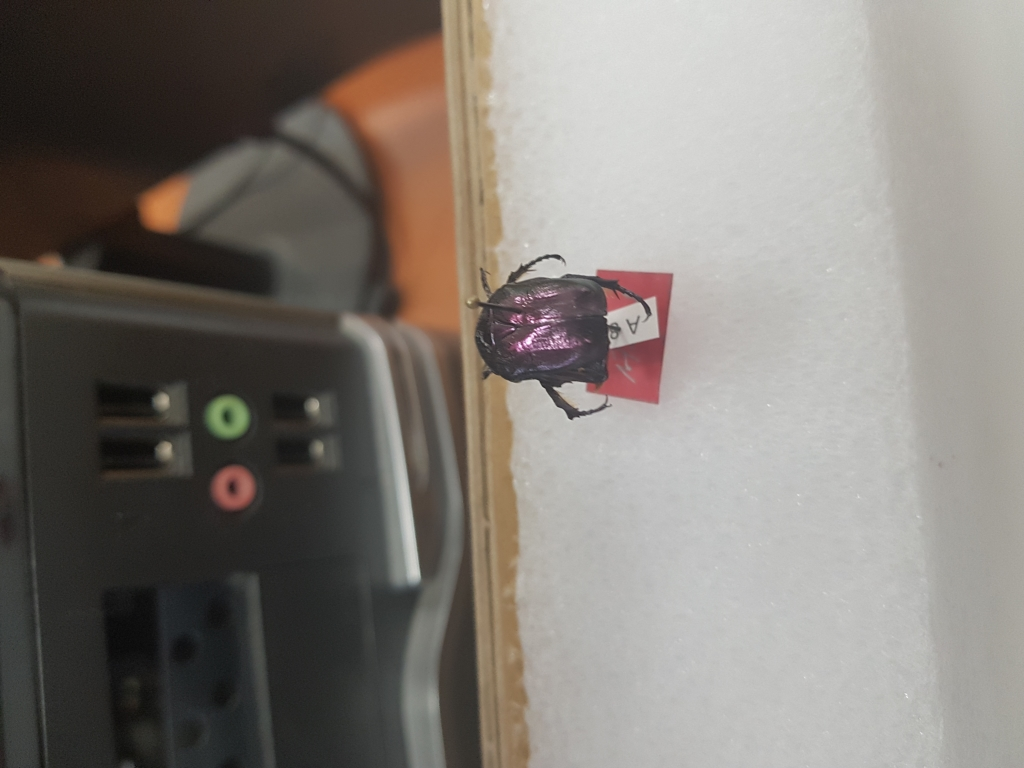Protaetia_besucheti: (446, 246, 659, 424)
